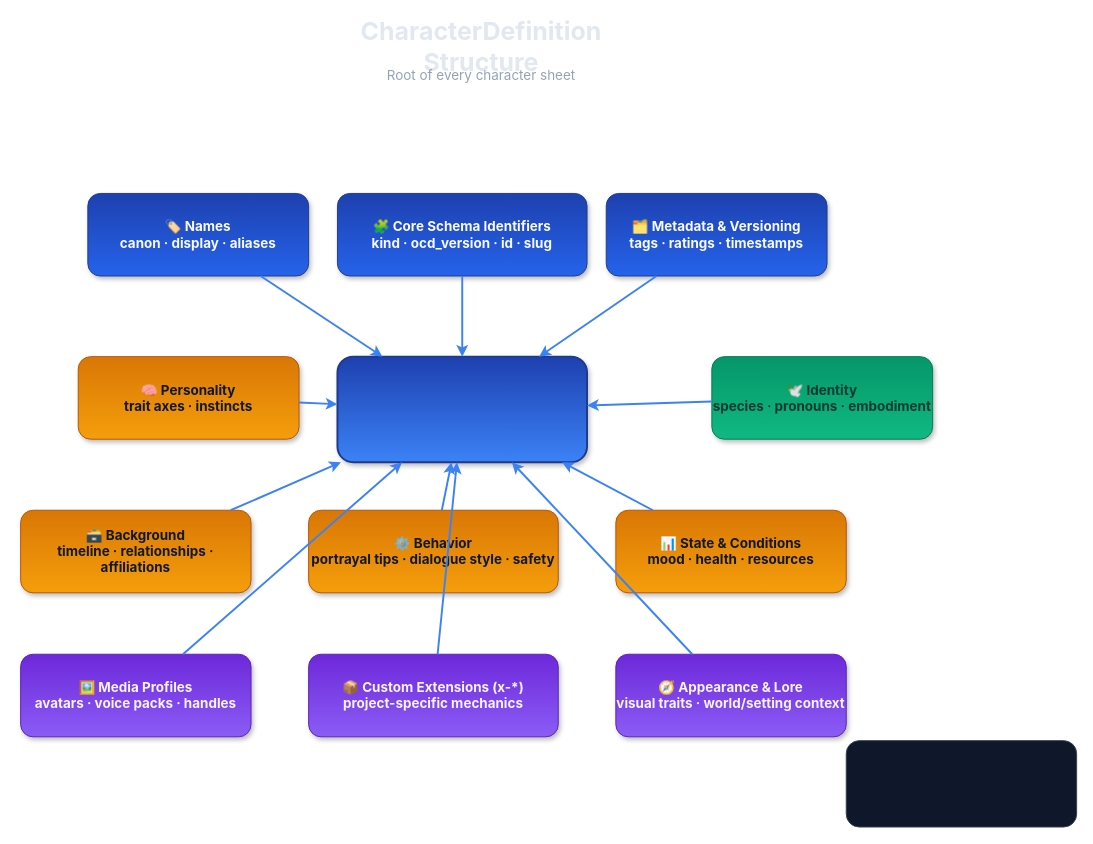
Image size: 1093x844. Some labels were removed from this diagram. The centre of each missing label's shape, as x and y in pixels:
"CharacterDefinition root of every sheet" belongs at (462,410).
"Legend 🟦 Core · 🟩 Identity · 🟨 Behavior · 🟪 Extensions" belongs at (961,783).
